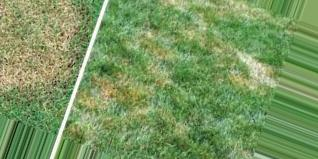patch: (6, 4, 61, 85), (235, 51, 273, 86)
